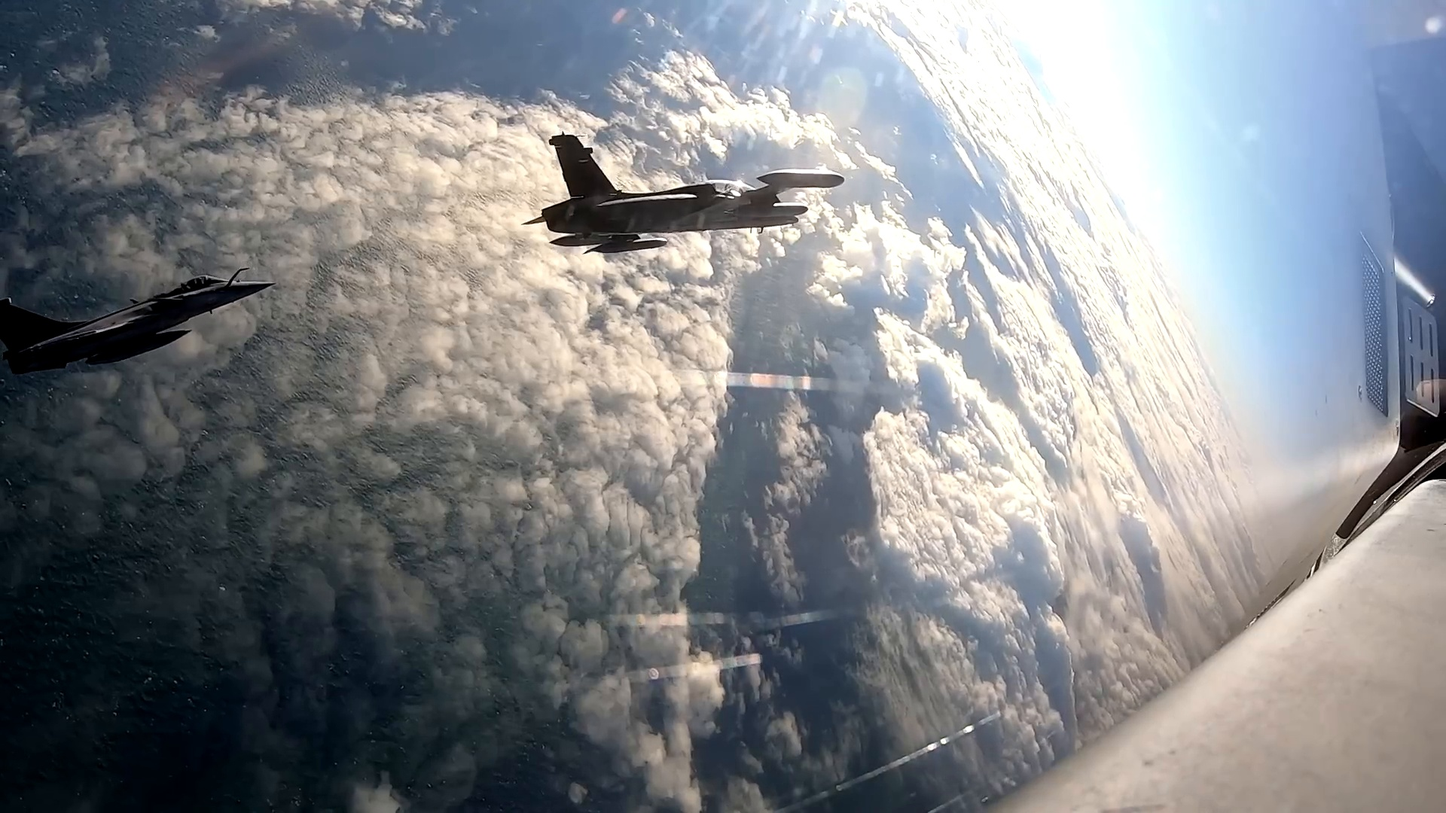Rafale: (1, 271, 278, 376)
